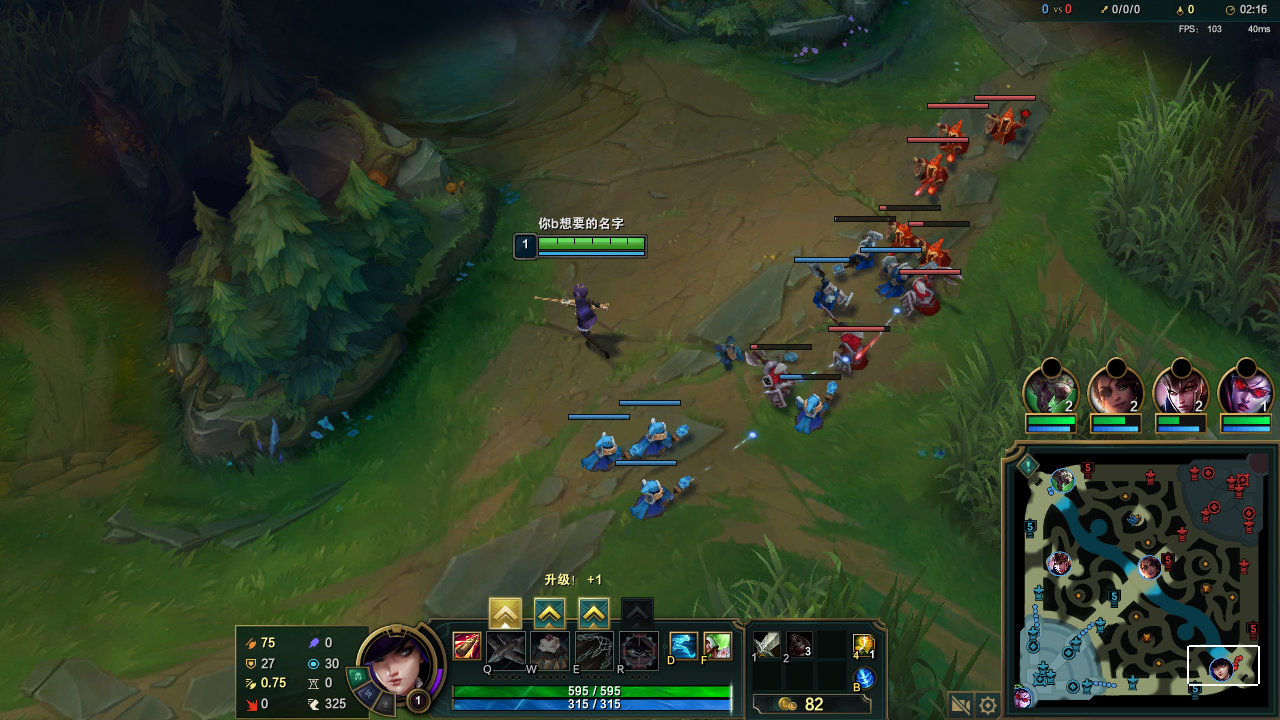DFXB: (755, 359, 794, 409), (927, 120, 976, 158), (835, 332, 873, 374), (904, 279, 944, 315), (985, 107, 1020, 145), (917, 233, 946, 265), (911, 161, 946, 187), (888, 220, 911, 246)
Shenji: (538, 607, 565, 626), (581, 601, 601, 626)
Tuijianshengji: (491, 601, 527, 627)
WFXB: (631, 415, 689, 463), (631, 475, 691, 520), (793, 380, 837, 433), (578, 429, 628, 470), (809, 269, 856, 311), (874, 256, 914, 296), (850, 228, 886, 265)
